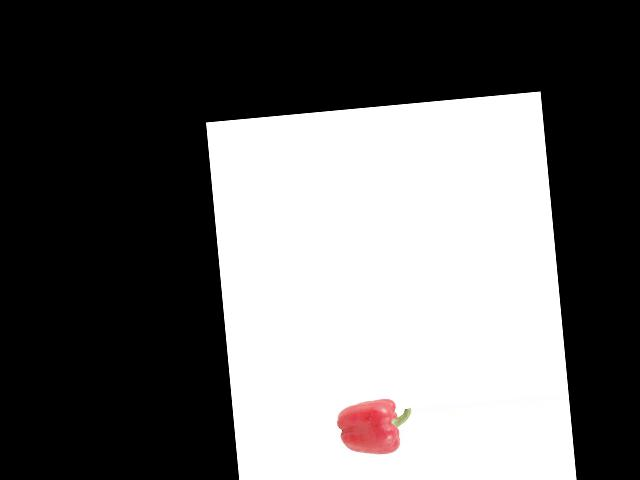bell_pepper: (334, 394, 415, 466)
